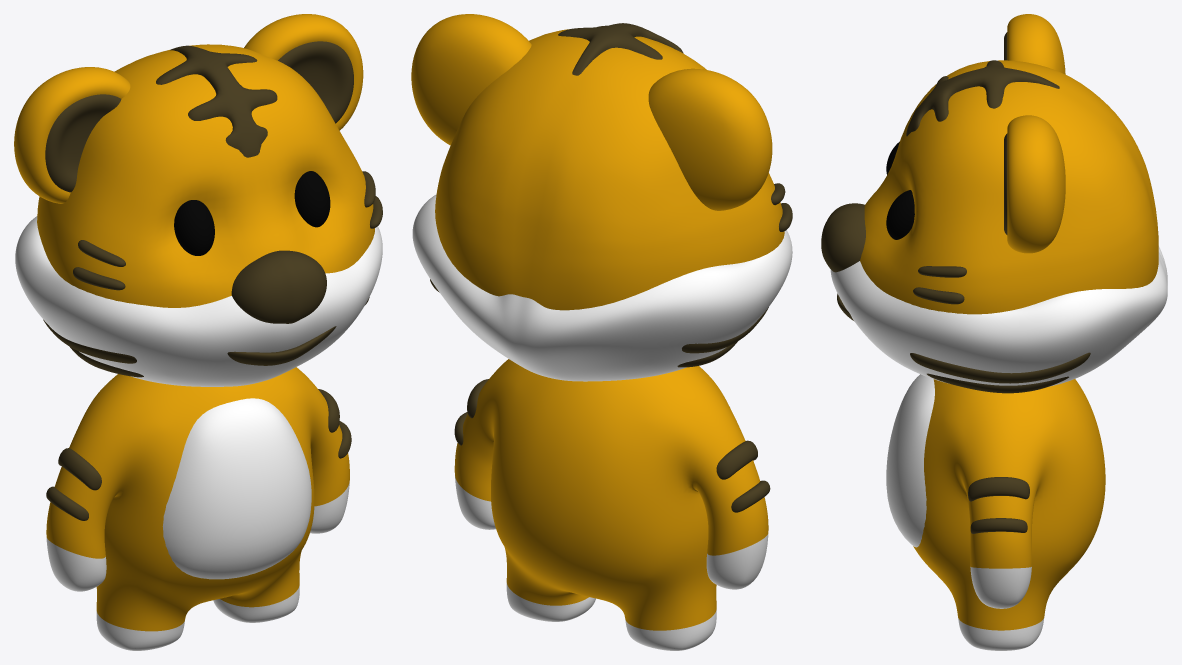
The model's file is Tigger_3d.glb.
3 views of the same model, side by side, from view 1: azimuth 30°, elevation 25°; view 2: azimuth 150°, elevation 25°; view 3: azimuth 270°, elevation 25° (orthographic). The views are drawn at different scales.
Parts seen in each view (by area): view 1: Cube.153, Cube.163, Cube.154, Cube.164, Cube.159, Cube.160, Cube.155, Cube.158, Sphere.030, Cube.165, Cube.161, Cube.162 (+1 smaller); view 2: Cube.163, Cube.153, Cube.154, Cube.159, Cube.158, Cube.165, Cube.156; view 3: Cube.153, Cube.163, Cube.154, Cube.159, Cube.164, Cube.158, Cube.155, Cube.165, Cube.156, Sphere.030, Cube.161, Cube.157 (+1 smaller).
Boxes of the visible parts, bbox=[...] form: Cube.153: bbox=[37, 44, 374, 307]; Cube.163: bbox=[46, 367, 349, 650]; Cube.154: bbox=[15, 216, 382, 386]; Cube.164: bbox=[162, 398, 311, 579]; Cube.159: bbox=[14, 14, 363, 203]; Cube.160: bbox=[45, 41, 353, 192]; Cube.155: bbox=[231, 250, 326, 323]; Cube.158: bbox=[156, 45, 277, 157]; Sphere.030: bbox=[174, 171, 330, 255]; Cube.165: bbox=[46, 389, 351, 520]; Cube.161: bbox=[73, 171, 382, 290]; Cube.162: bbox=[227, 326, 336, 365]; Cube.163: bbox=[454, 359, 768, 650]; Cube.153: bbox=[435, 29, 784, 310]; Cube.154: bbox=[412, 194, 792, 381]; Cube.159: bbox=[411, 14, 772, 210]; Cube.158: bbox=[558, 23, 683, 75]; Cube.165: bbox=[454, 379, 770, 512]; Cube.156: bbox=[430, 279, 768, 353]; Cube.153: bbox=[860, 60, 1158, 314]; Cube.163: bbox=[913, 379, 1105, 650]; Cube.154: bbox=[830, 246, 1167, 386]; Cube.159: bbox=[1007, 14, 1065, 253]; Cube.164: bbox=[886, 374, 934, 547]; Cube.158: bbox=[906, 60, 1059, 136]; Cube.155: bbox=[821, 203, 865, 272]; Cube.165: bbox=[968, 477, 1029, 533]; Cube.156: bbox=[910, 352, 1090, 383]; Sphere.030: bbox=[886, 141, 914, 239]; Cube.161: bbox=[913, 266, 966, 304]; Cube.157: bbox=[927, 373, 1068, 393].
Size of the model in its own units: 3.65 by 5.86 by 3.37.
